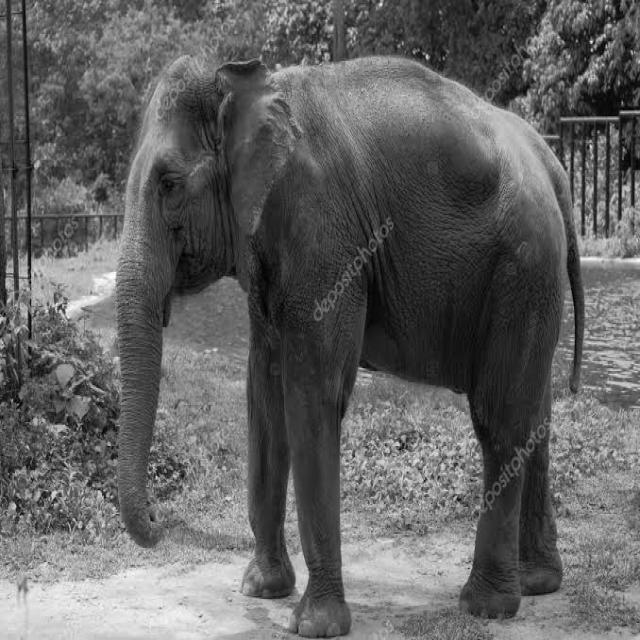Elephant: (89, 45, 579, 633)
